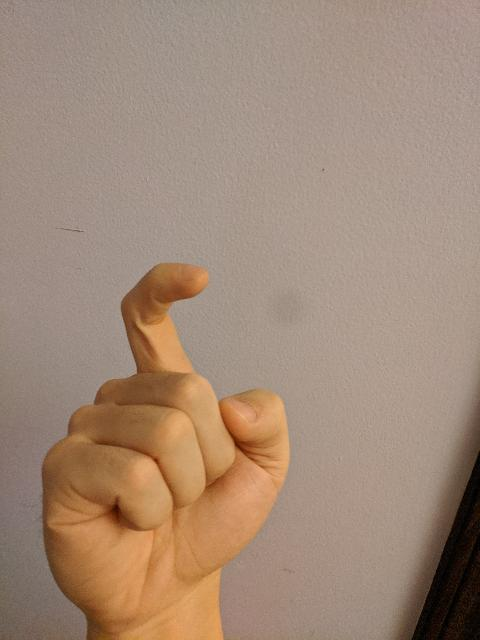X: (37, 258, 295, 622)
